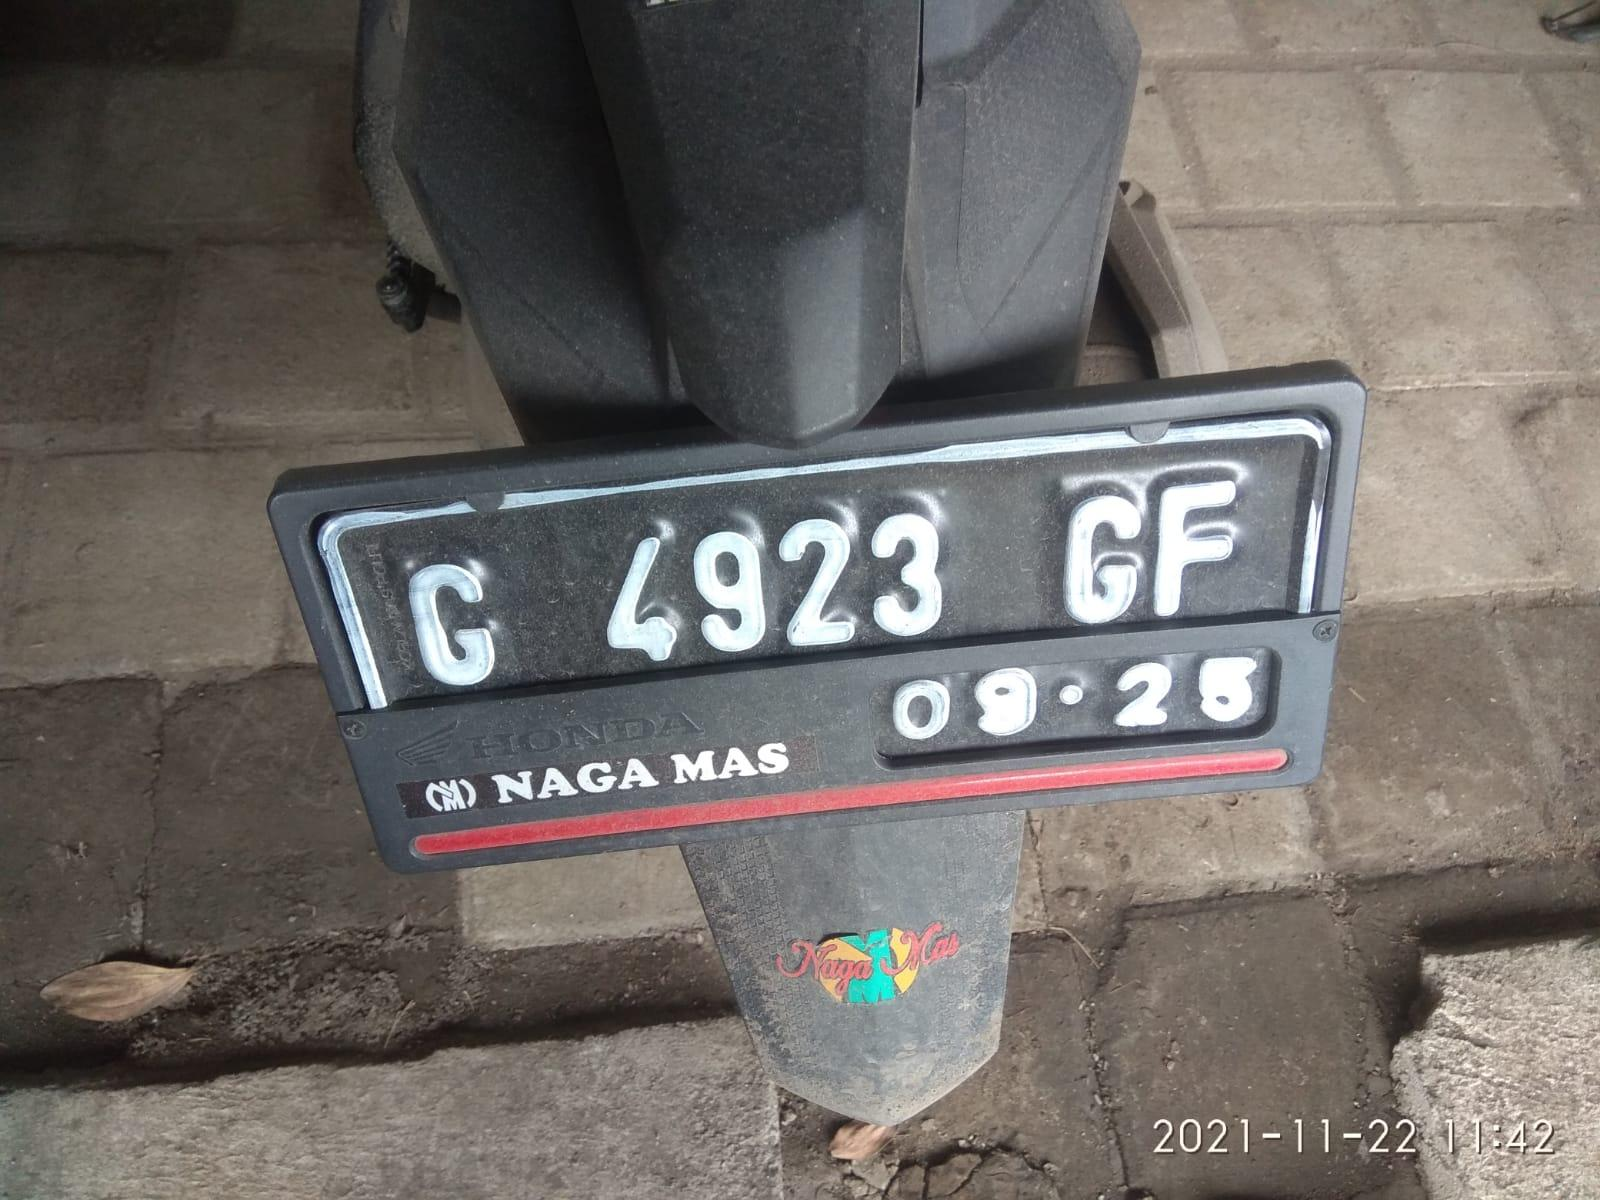plat: (269, 362, 1362, 872)
